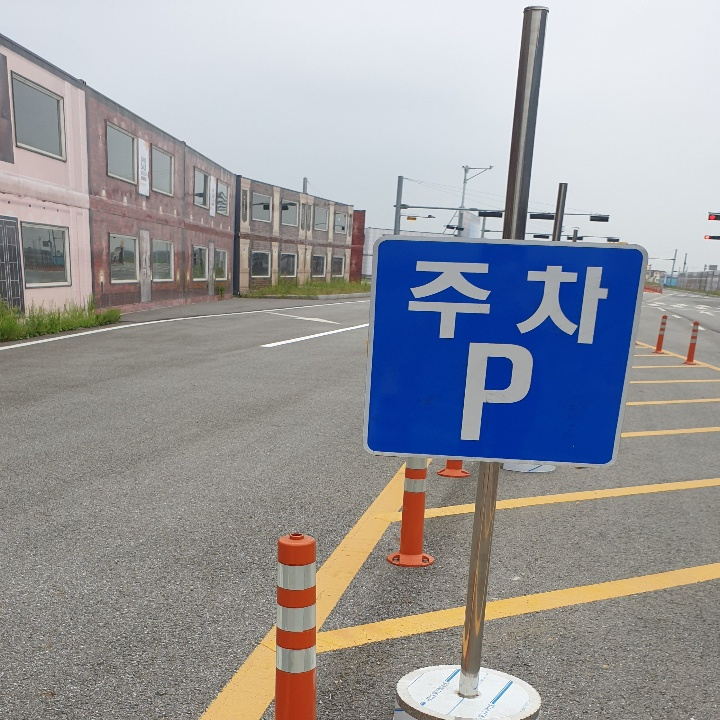parking: (449, 330, 540, 452)
